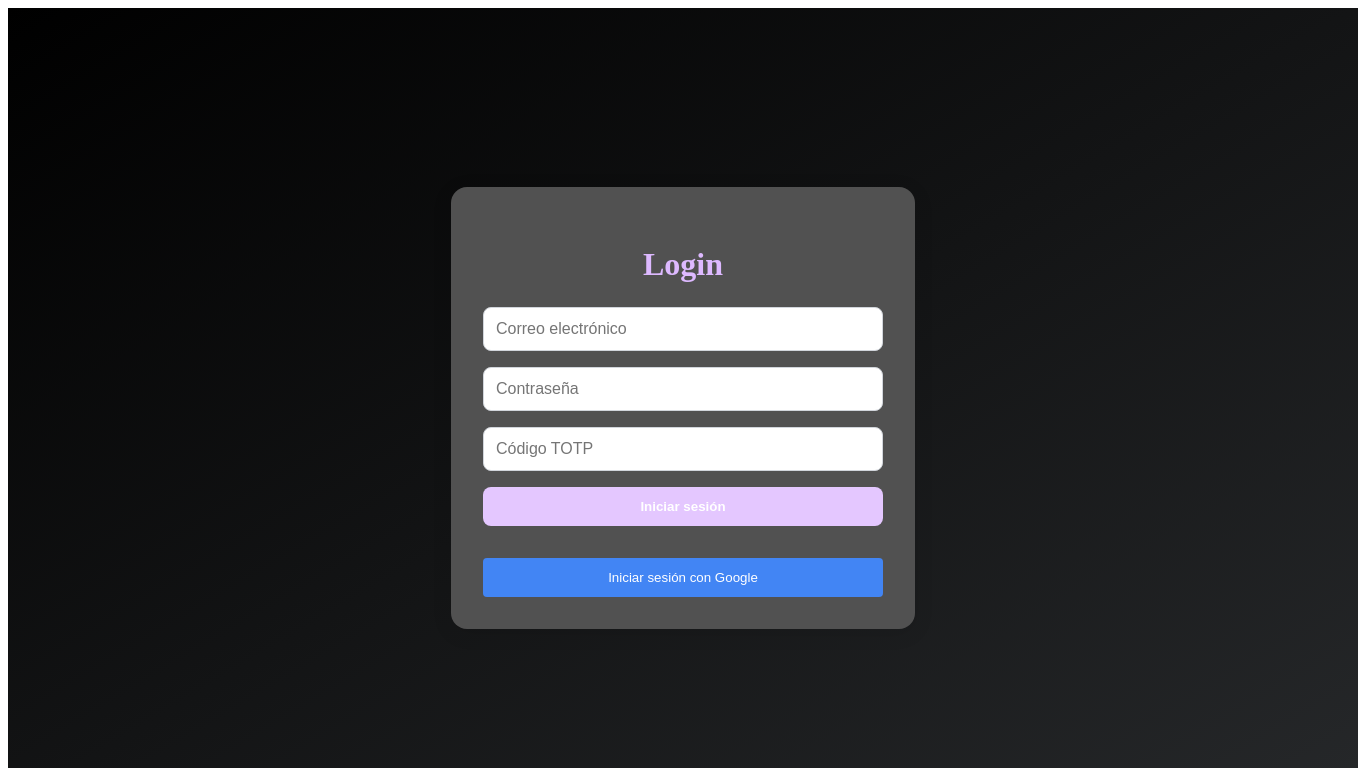
Scenario: Login › should show error for invalid email
In the field with placeholder "Correo electrónico": (683, 329) 483,307 -> 883,351, type "invalid-email"
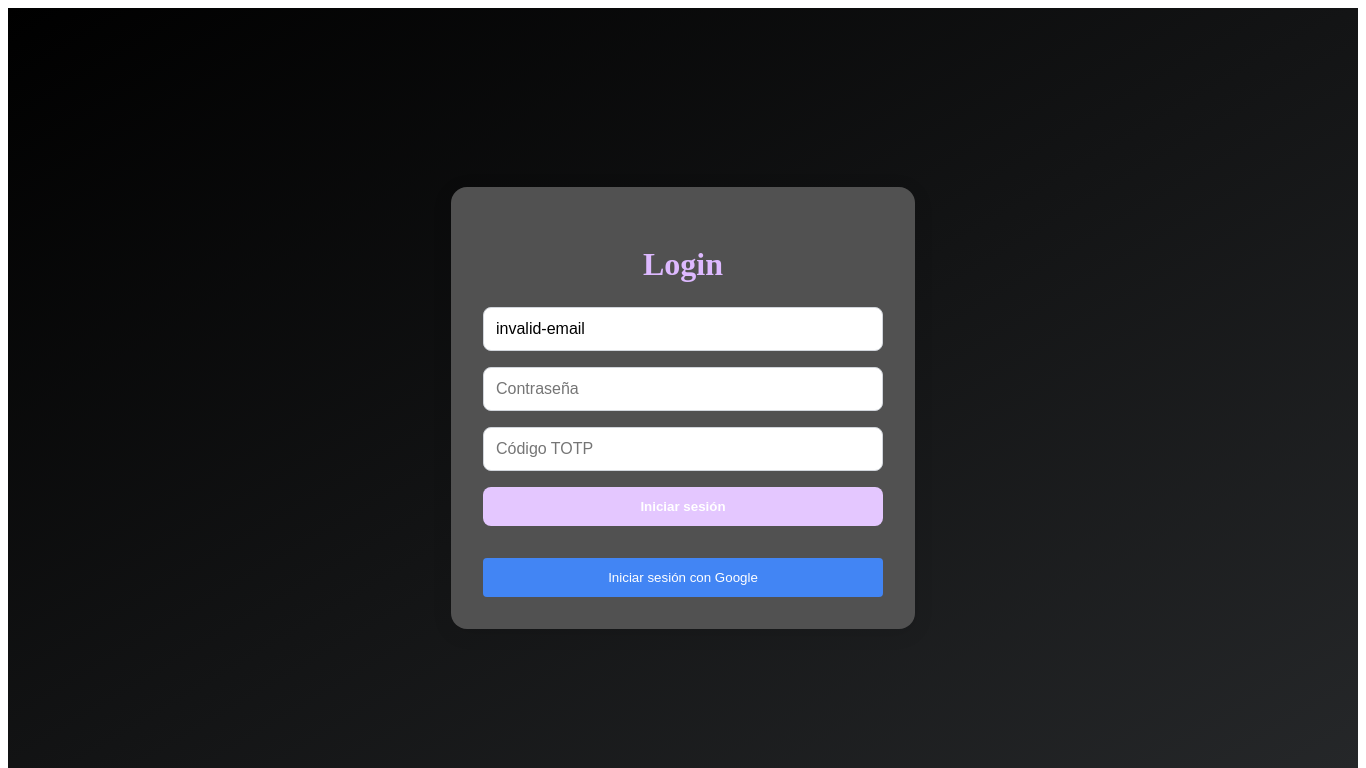
In the password field with placeholder "Contraseña": (683, 389) 483,367 -> 883,411, type "password123"
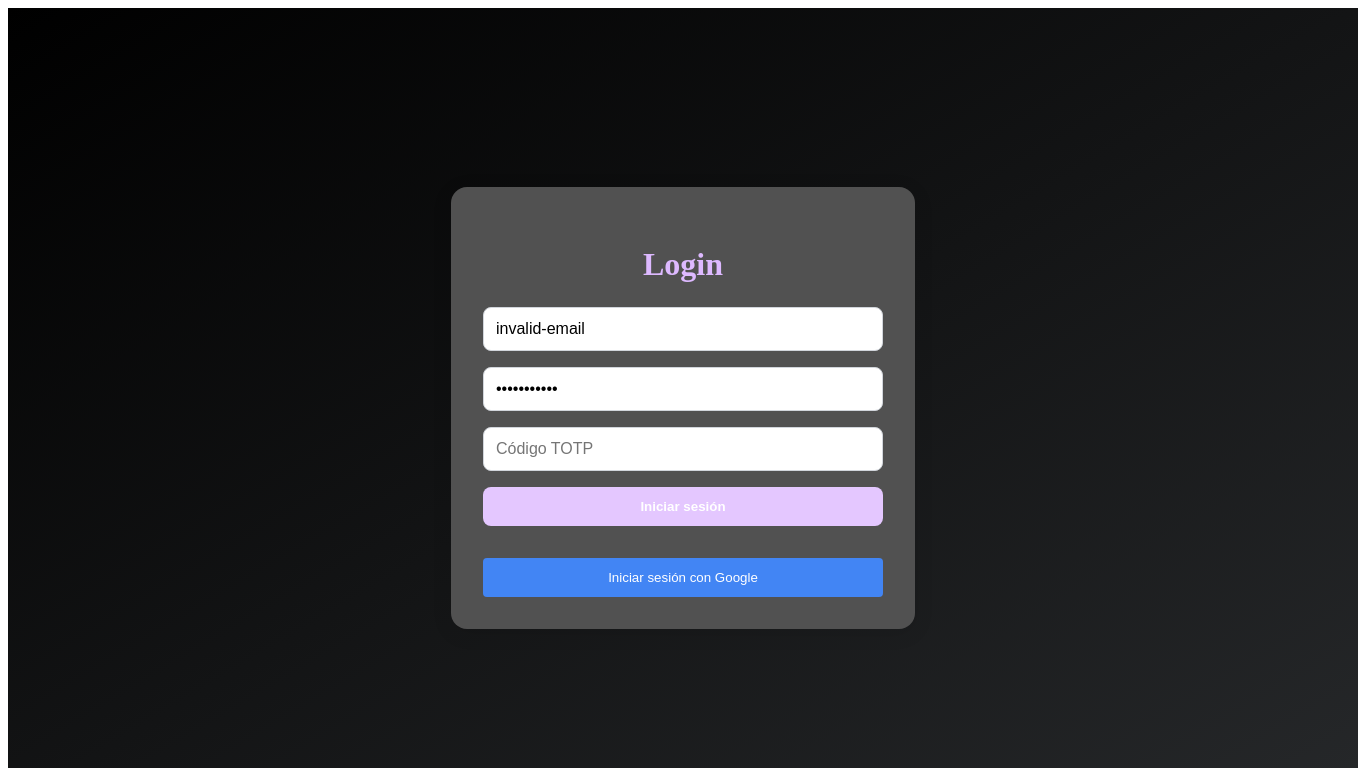
In the field with placeholder "Código TOTP": (683, 449) 483,427 -> 883,471, type "123456"
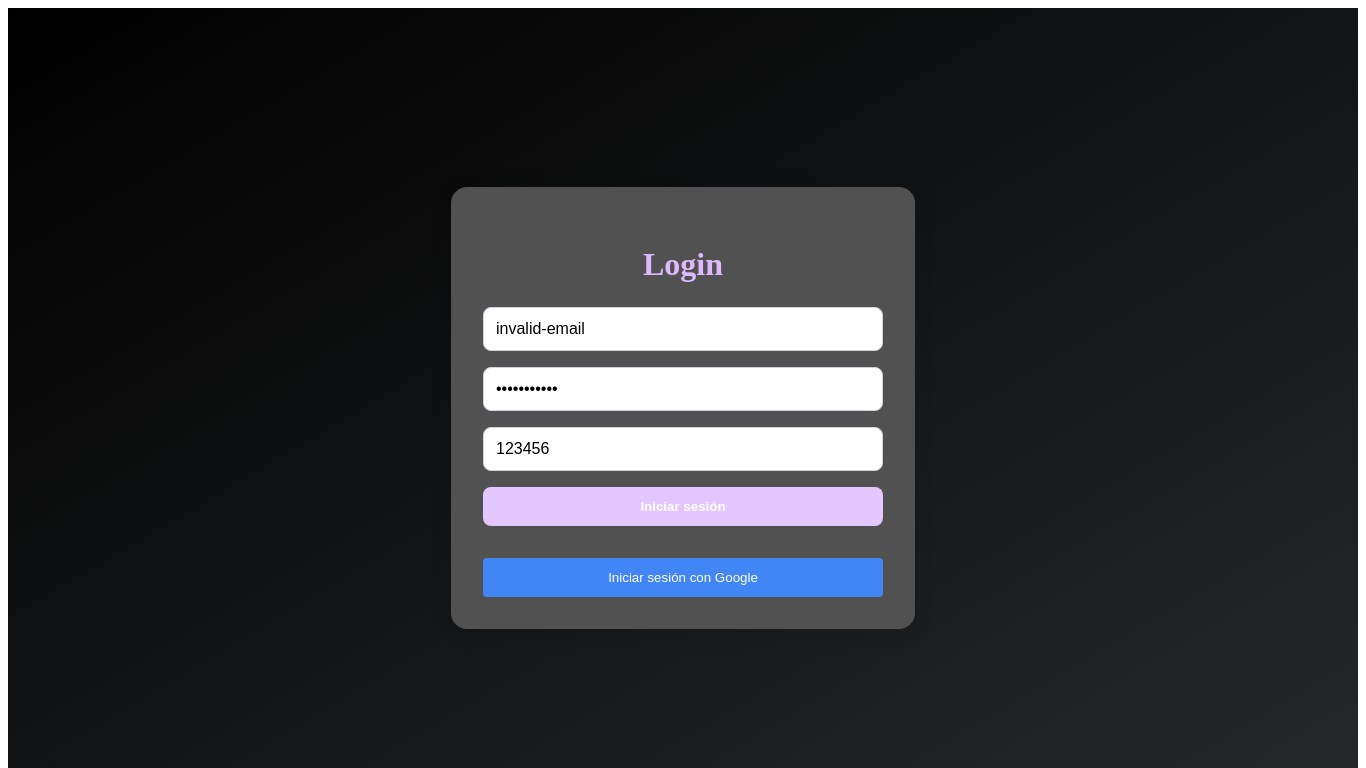
Click the button "Iniciar sesión": (683, 506) 483,487 -> 883,526
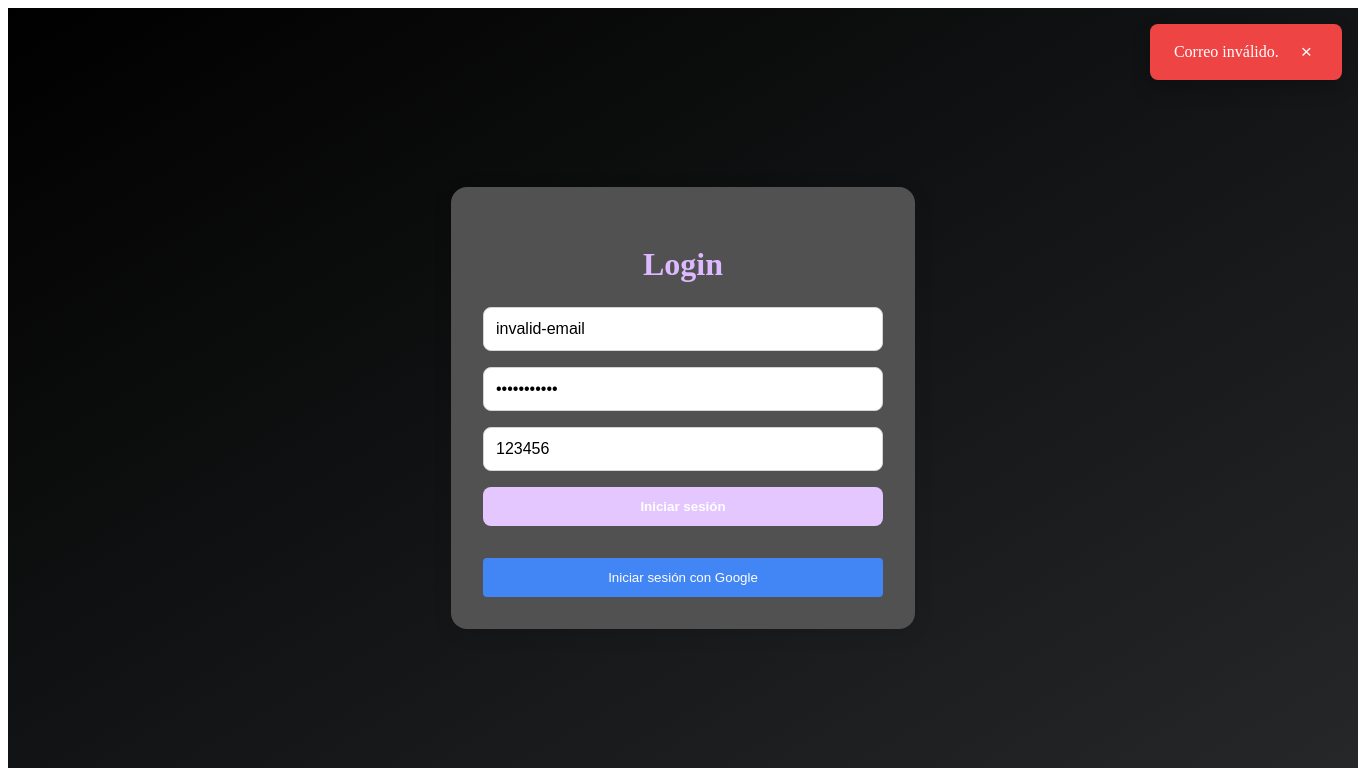
Expected: the text "Correo inválido." is shown, 1174,43 -> 1279,61
